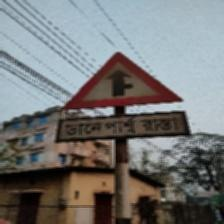Side-road-right: (59, 43, 187, 213)
